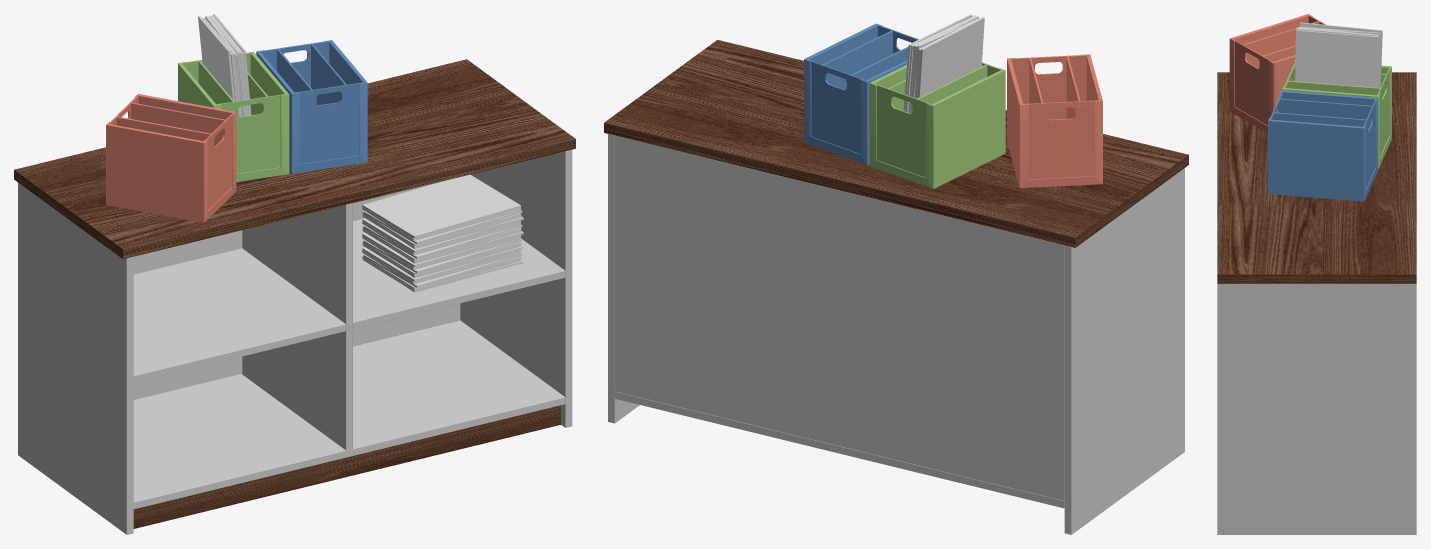
The model's file is Shelfsmall_ver2.glb.
3 renders of one model, left to right at view 1: azimuth 30°, elevation 25°; view 2: azimuth 150°, elevation 25°; view 3: azimuth 270°, elevation 25°, orthographic. The views are drawn at different scales.
Visible parts, largest first — view 1: archmodels_110_014_obj_78; view 2: archmodels_110_014_obj_78; view 3: archmodels_110_014_obj_78.
Boxes of the visible parts, <box> form: archmodels_110_014_obj_78: <box>14,14,575,534</box>; archmodels_110_014_obj_78: <box>604,14,1188,534</box>; archmodels_110_014_obj_78: <box>1217,14,1416,534</box>.
Bounding box in the file's own units: 1.2 × 1.05 × 0.4999.
Materials: 6 (1 with a texture image).
